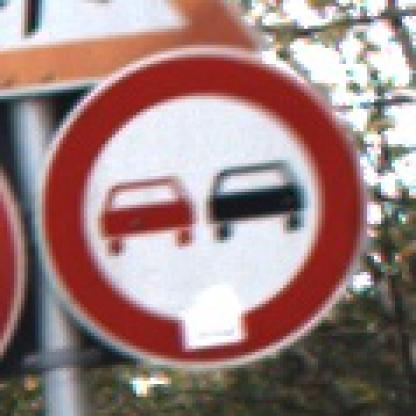No Overtaking: (39, 39, 382, 382)
